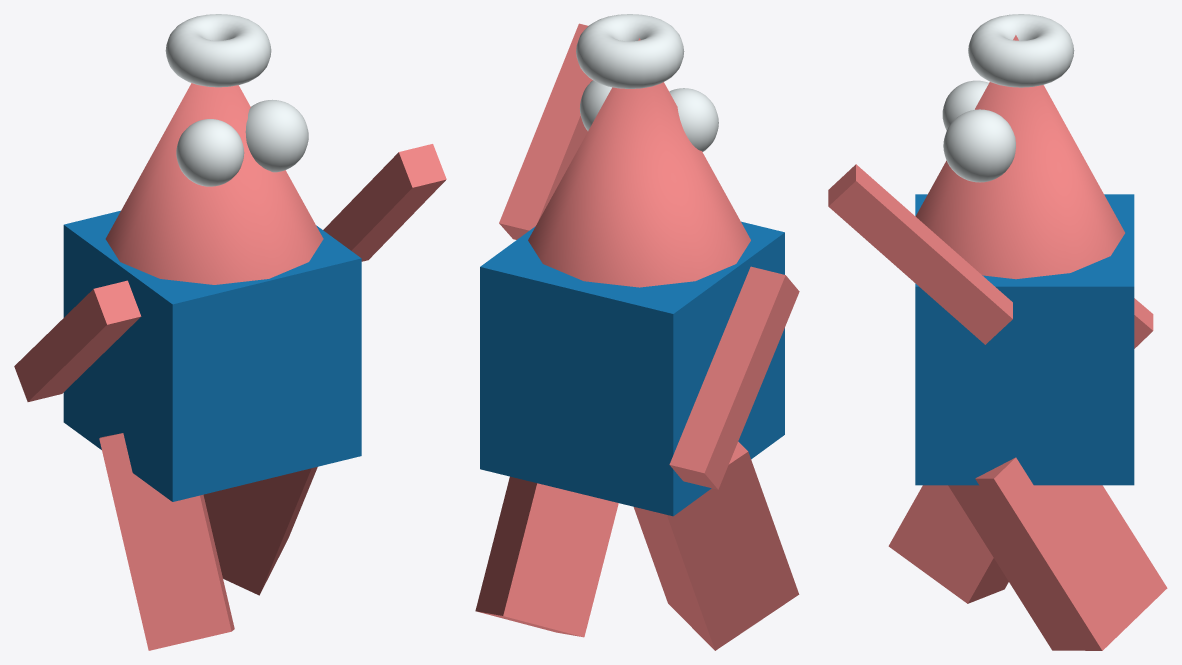
The model's file is boxman.gltf.
The picture shows the model from 3 angles, left to right: view 1: azimuth 30°, elevation 25°; view 2: azimuth 150°, elevation 25°; view 3: azimuth 270°, elevation 25°; orthographic projection. The views are drawn at different scales.
Visible parts, largest first — view 1: Box, Cone, Box3, Box2, Box4, Box1, Torus, Sphere, Sphere1; view 2: Box, Cone, Box3, Box2, Box4, Box1, Torus, Sphere, Sphere1; view 3: Box, Box2, Cone, Box1, Box3, Torus, Sphere1, Sphere, Box4.
Boxes of the visible parts, left/top/right/bottom form: Box: left=63, top=210, right=361, bottom=501; Cone: left=105, top=83, right=323, bottom=284; Box3: left=99, top=433, right=234, bottom=650; Box2: left=203, top=466, right=317, bottom=595; Box4: left=14, top=280, right=141, bottom=401; Box1: left=323, top=144, right=446, bottom=261; Torus: left=165, top=14, right=271, bottom=87; Sphere: left=176, top=119, right=244, bottom=186; Sphere1: left=245, top=99, right=308, bottom=172; Box: left=480, top=221, right=784, bottom=516; Cone: left=528, top=38, right=750, bottom=287; Box3: left=633, top=441, right=799, bottom=650; Box2: left=475, top=476, right=618, bottom=637; Box4: left=669, top=266, right=799, bottom=489; Box1: left=499, top=23, right=592, bottom=239; Torus: left=576, top=14, right=684, bottom=88; Sphere: left=669, top=88, right=718, bottom=151; Sphere1: left=579, top=80, right=611, bottom=130; Box: left=915, top=194, right=1134, bottom=485; Box2: left=948, top=457, right=1167, bottom=650; Cone: left=915, top=35, right=1124, bottom=279; Box1: left=828, top=164, right=1012, bottom=344; Box3: left=888, top=485, right=1008, bottom=603; Torus: left=968, top=14, right=1074, bottom=87; Sphere1: left=943, top=109, right=1015, bottom=182; Sphere: left=942, top=80, right=988, bottom=130; Box4: left=1134, top=298, right=1153, bottom=348.
Size of the model in its own units: 1.43 by 3.01 by 1.55.
